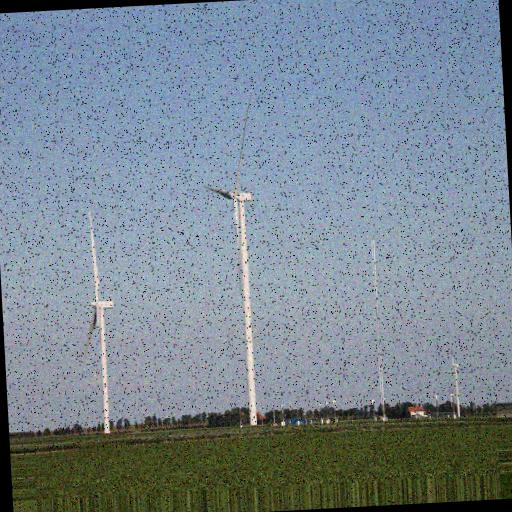wind turbine: (202, 93, 259, 429), (83, 209, 117, 434)
